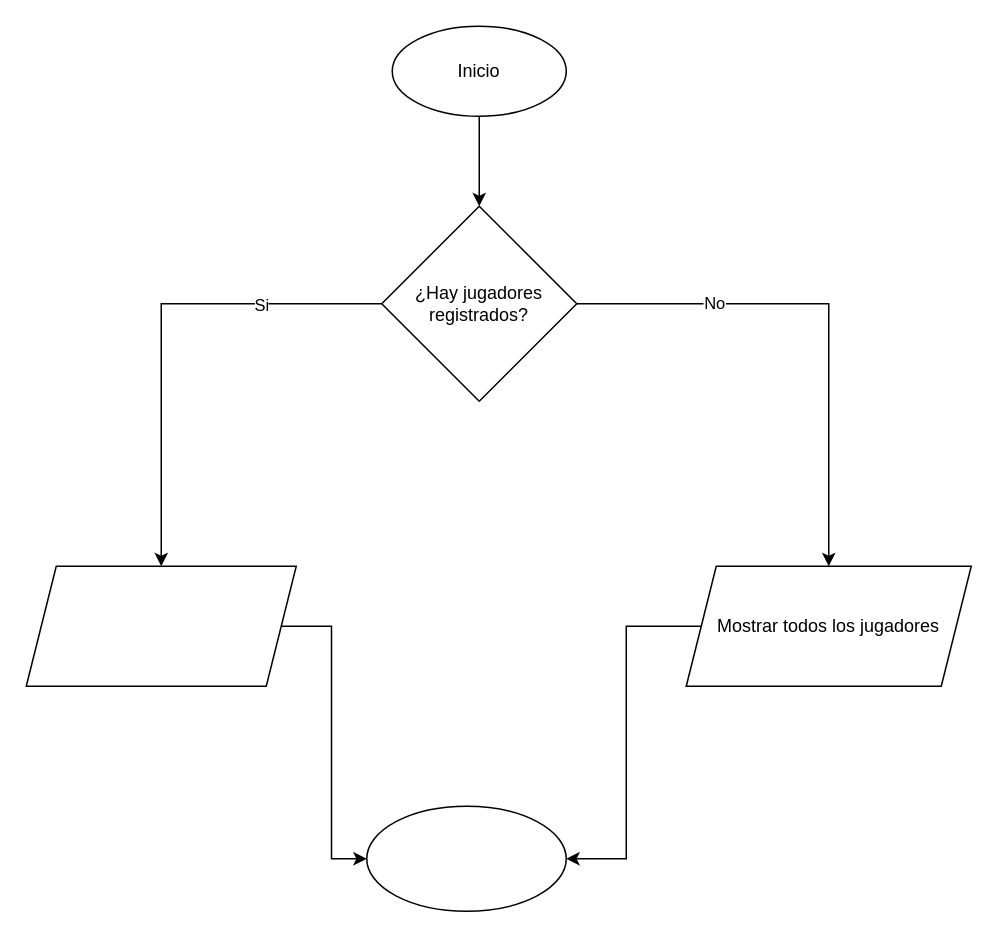
This 998x938 diagram has some shape labels left out. Here are the shapes that lost their labels. From the top down, the centre of each, then its label:
the point at 160,625: Mostrar mensaje "No hay jugadores"
the point at 465,858: Fin
